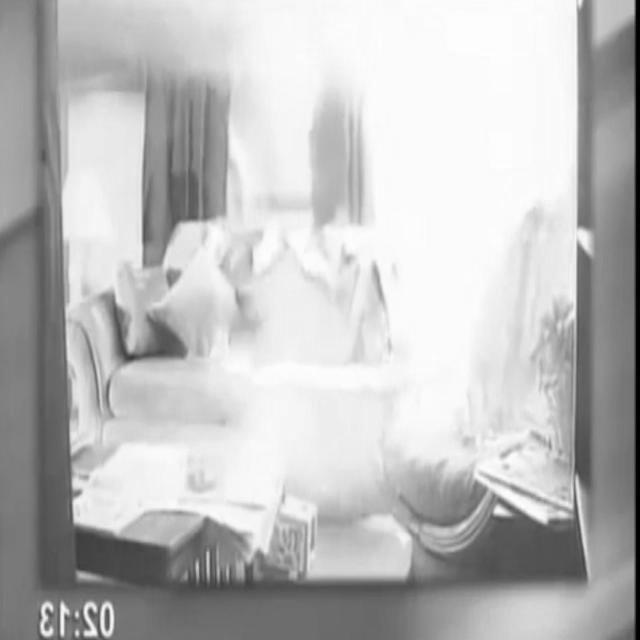smoke: (381, 56, 512, 420)
